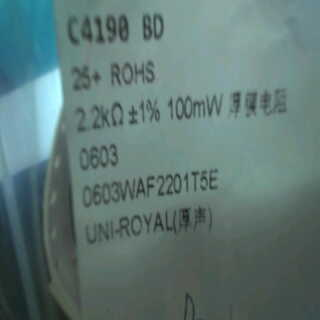2.2kR: (71, 98, 127, 135)
